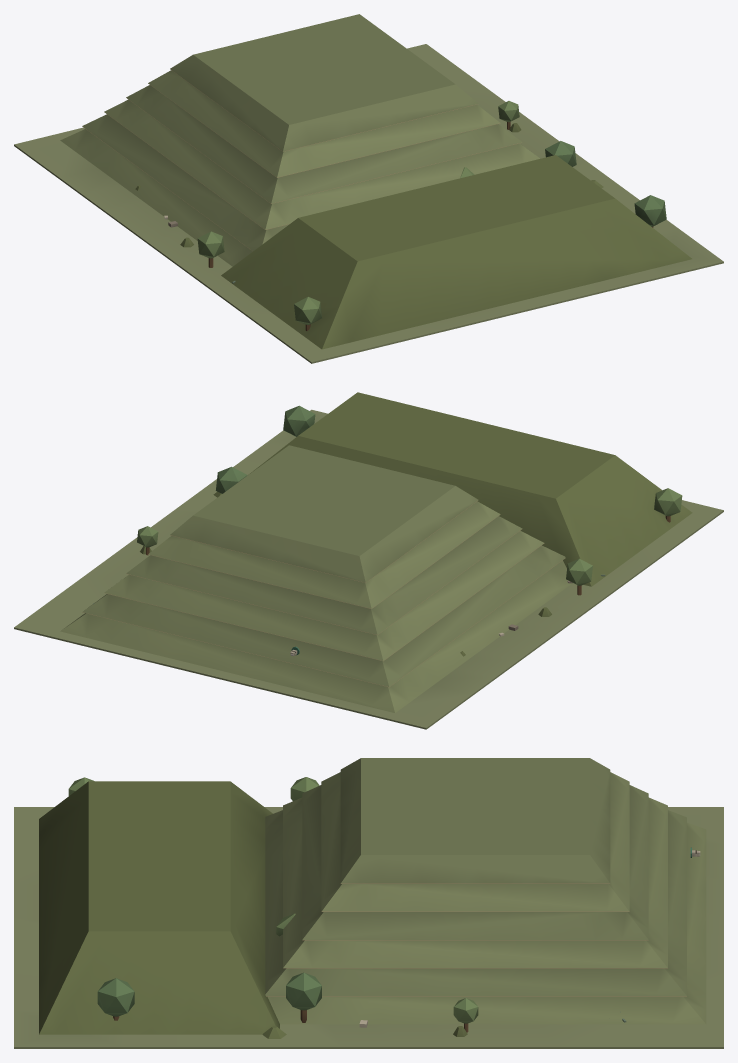
File: temple-of-the-feathered-serpent-1500.glb
3 views of the same model, one above another, from view 1: azimuth 30°, elevation 25°; view 2: azimuth 150°, elevation 25°; view 3: azimuth 270°, elevation 25° (orthographic). The views are drawn at different scales.
Visible parts, largest first — view 1: p1_pyramid, p0_ground, p2_growth; view 2: p1_pyramid, p0_ground, p2_growth; view 3: p1_pyramid, p0_ground, p2_growth.
Boxes of the visible parts, <box> form: p1_pyramid: <box>60,14,691,349</box>; p0_ground: <box>14,44,723,363</box>; p2_growth: <box>135,101,666,330</box>; p1_pyramid: <box>60,392,692,712</box>; p0_ground: <box>14,409,723,729</box>; p2_growth: <box>93,405,682,656</box>; p1_pyramid: <box>39,758,706,1034</box>; p0_ground: <box>14,807,723,1048</box>; p2_growth: <box>68,777,700,1038</box>.
Size of the model in its own units: 80 by 19.04 by 100.
